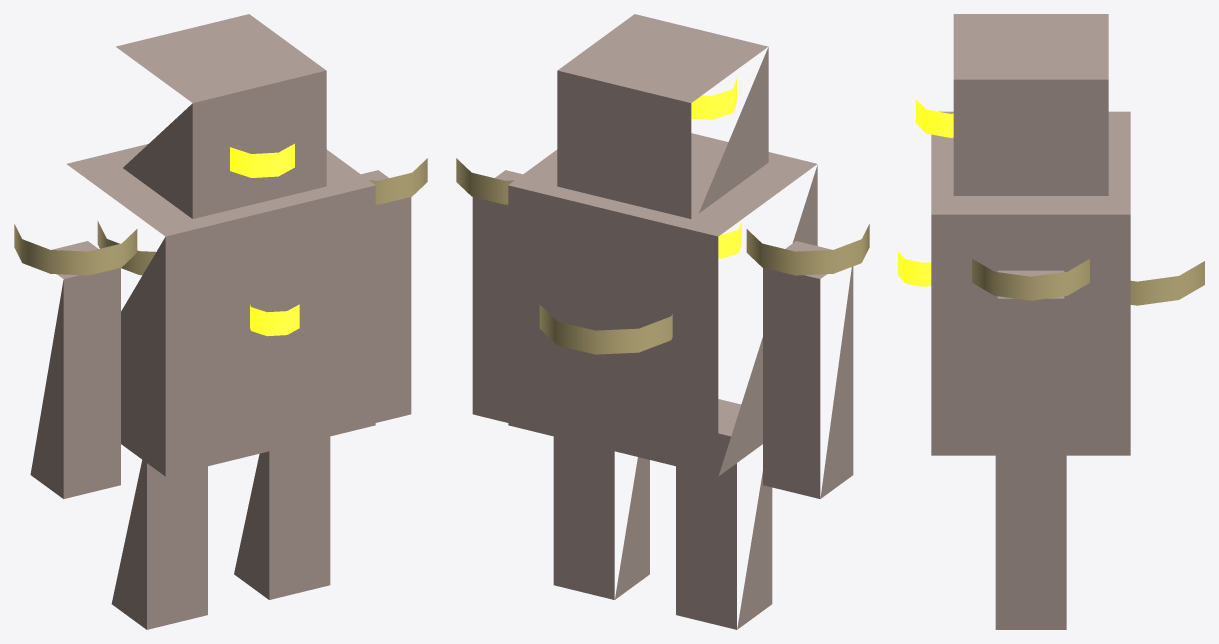
The model's file is golem_mechanical_03.glb.
3 renders of one model, left to right at view 1: azimuth 30°, elevation 25°; view 2: azimuth 150°, elevation 25°; view 3: azimuth 270°, elevation 25°, orthographic.
Parts seen in each view (by area): view 1: MechanicalArmor, MechanicalGears, MechanicalGlow; view 2: MechanicalArmor, MechanicalGears, MechanicalGlow; view 3: MechanicalArmor, MechanicalGears, MechanicalGlow.
Part boxes in pixels (left/top/right/bottom): MechanicalArmor: left=30, top=14, right=411, bottom=629; MechanicalGears: left=14, top=158, right=427, bottom=275; MechanicalGlow: left=230, top=143, right=299, bottom=336; MechanicalArmor: left=472, top=14, right=853, bottom=629; MechanicalGears: left=456, top=158, right=869, bottom=354; MechanicalGlow: left=691, top=78, right=741, bottom=258; MechanicalArmor: left=931, top=14, right=1130, bottom=629; MechanicalGears: left=972, top=259, right=1204, bottom=305; MechanicalGlow: left=898, top=99, right=953, bottom=286.
Bounding box in the file's own units: 1.04 × 1.34 × 0.6922.
